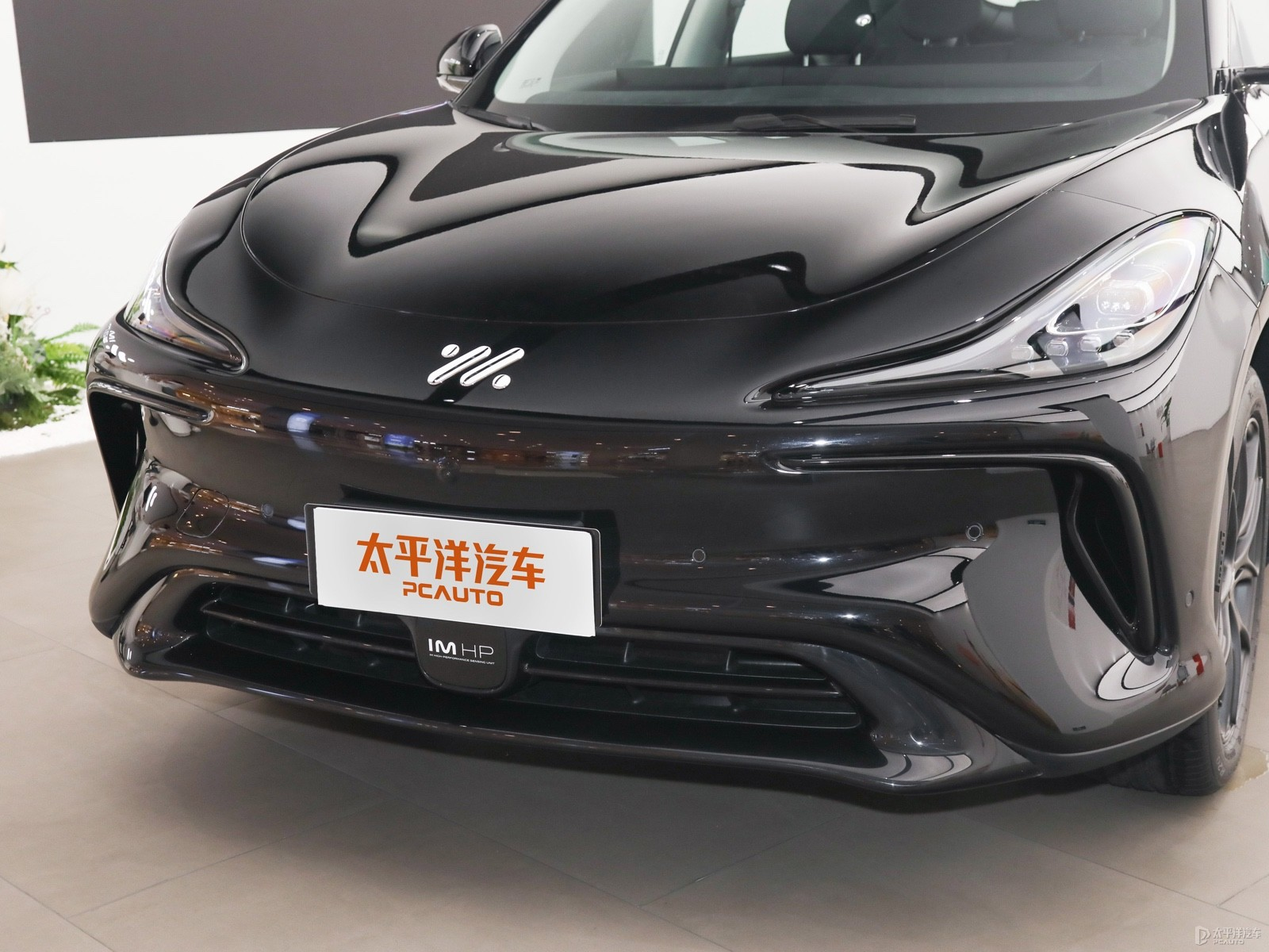IM: (427, 345, 523, 389)
